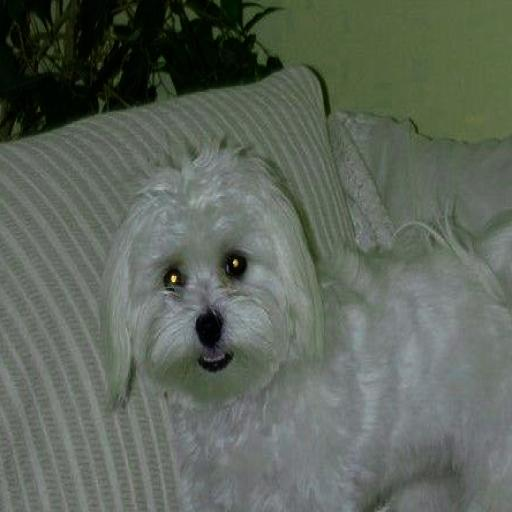dog_face: (99, 152, 322, 411)
